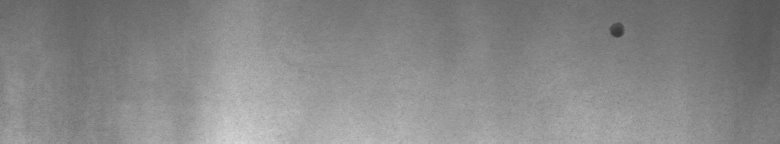fi: (604, 16, 631, 44)
